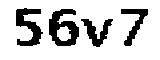5: (10, 4, 44, 52)
6: (47, 6, 80, 49)
7: (119, 3, 151, 50)
v: (79, 16, 115, 50)
